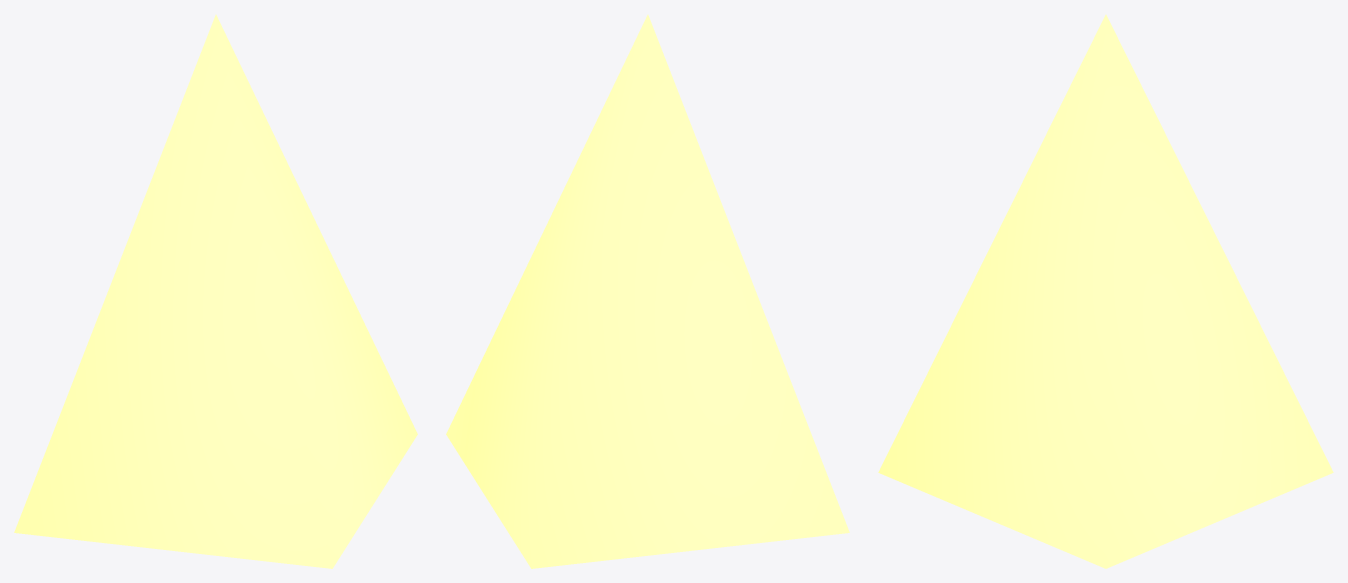
File: SM_cv_flame_red.glb
3 views of the same model, side by side, from view 1: azimuth 30°, elevation 25°; view 2: azimuth 150°, elevation 25°; view 3: azimuth 270°, elevation 25° (orthographic). The views are drawn at different scales.
Visible parts, largest first — view 1: SM_cv_flame_red; view 2: SM_cv_flame_red; view 3: SM_cv_flame_red.
Boxes of the visible parts, box(x1,y1,x2,y2) form: SM_cv_flame_red: box(14, 14, 417, 568); SM_cv_flame_red: box(446, 14, 849, 568); SM_cv_flame_red: box(878, 14, 1333, 568).
Bounding box in the file's own units: 0.9 × 1 × 0.9.
